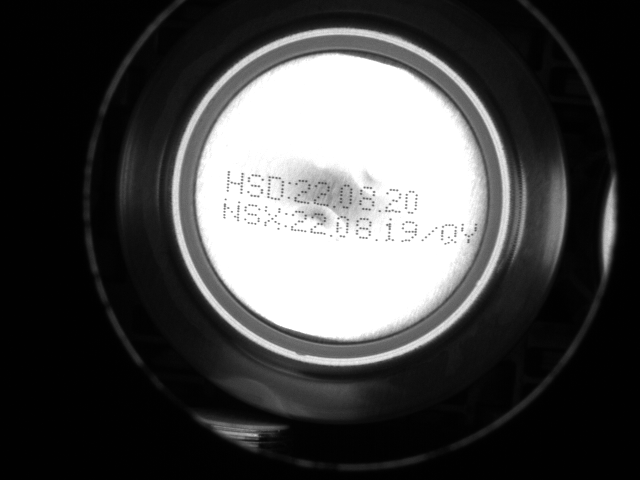/: (417, 221, 442, 245)
0: (405, 185, 424, 213), (339, 181, 355, 212), (331, 213, 350, 236)
1: (380, 216, 398, 241)
2: (311, 176, 335, 207), (380, 184, 404, 214), (288, 175, 311, 204), (288, 209, 311, 234), (310, 211, 328, 236)
8: (356, 183, 378, 212), (352, 214, 376, 239)
9: (398, 216, 417, 243)
D: (264, 175, 286, 201)
H: (222, 169, 246, 194)
N: (219, 198, 244, 224)
Q: (440, 222, 460, 244)
S: (240, 201, 260, 226), (245, 175, 262, 196)
X: (264, 203, 283, 228)
Y: (459, 222, 480, 246)
